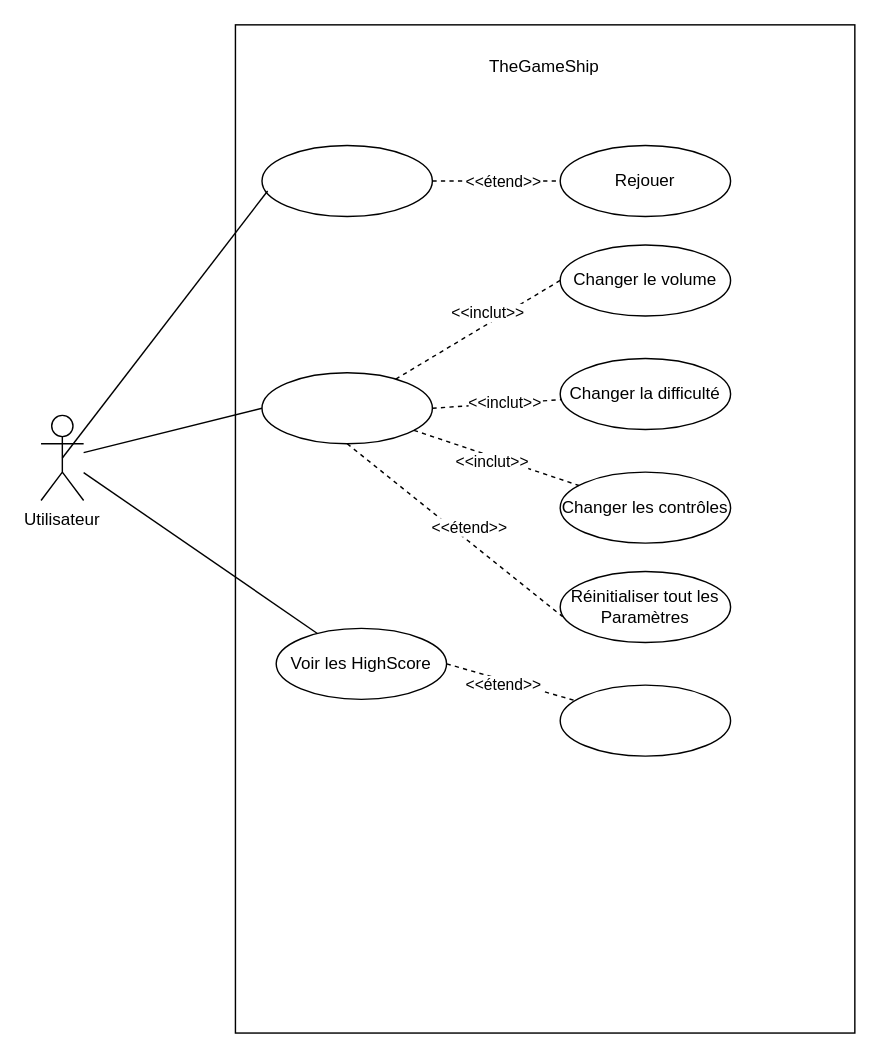
Image size: 880x1058. Some labels were removed from this diagram. The shapes that lost their labels are listed below. From the top down, each one's centre as x and y in pixels, then its label:
[346,180]: Jouer
[346,407]: Changer les paramètres
[645,720]: Réinitialiser les HighScores
